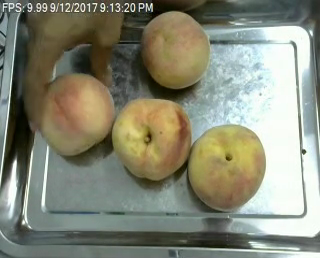Peach: (33, 71, 115, 155), (111, 97, 192, 182), (187, 124, 267, 210), (141, 9, 210, 88)
